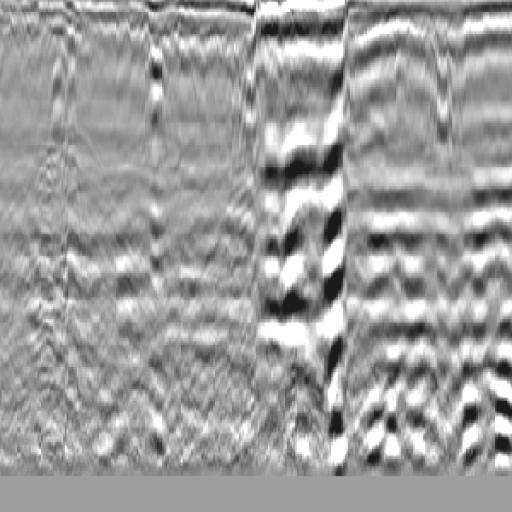non-metallic: (27, 38, 99, 162)
